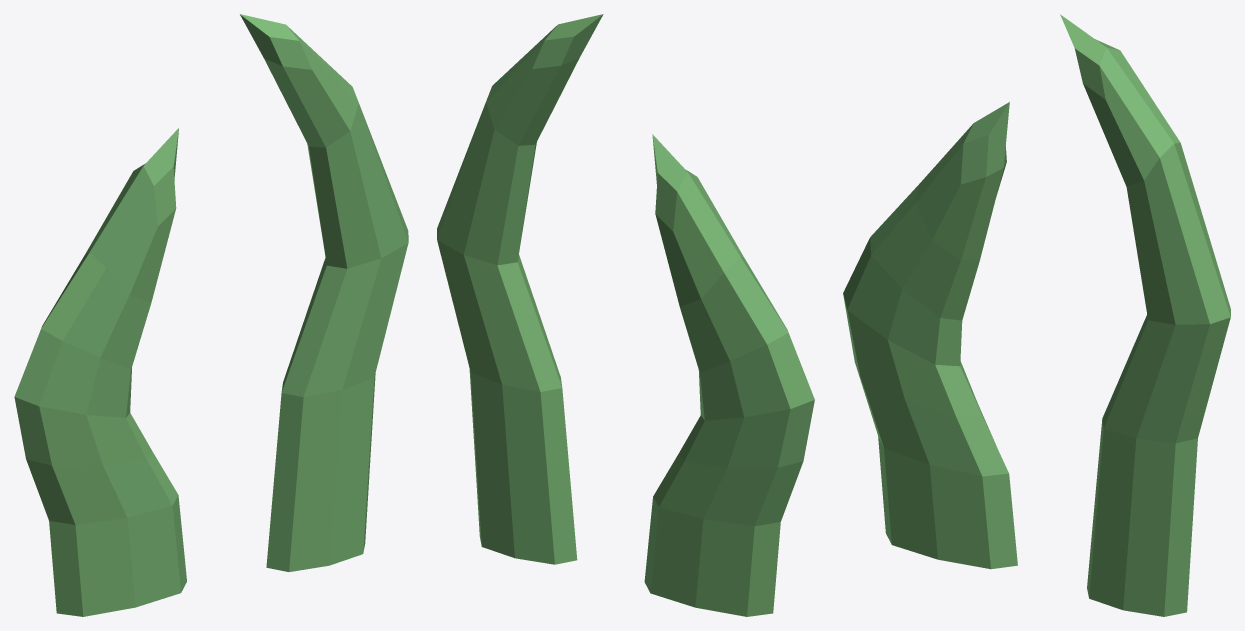
File: Grass1.glb
3 views of the same model, side by side, from view 1: azimuth 30°, elevation 25°; view 2: azimuth 150°, elevation 25°; view 3: azimuth 330°, elevation 25° (orthographic). The views are drawn at different scales.
Visible parts, largest first — view 1: Grass1; view 2: Grass1; view 3: Grass1.
Part boxes in pixels (bbox=[...]): Grass1: bbox=[14, 14, 408, 616]; Grass1: bbox=[437, 14, 814, 616]; Grass1: bbox=[843, 14, 1230, 616].
Bounding box in the file's own units: 0.3865 × 0.5326 × 0.0569.
